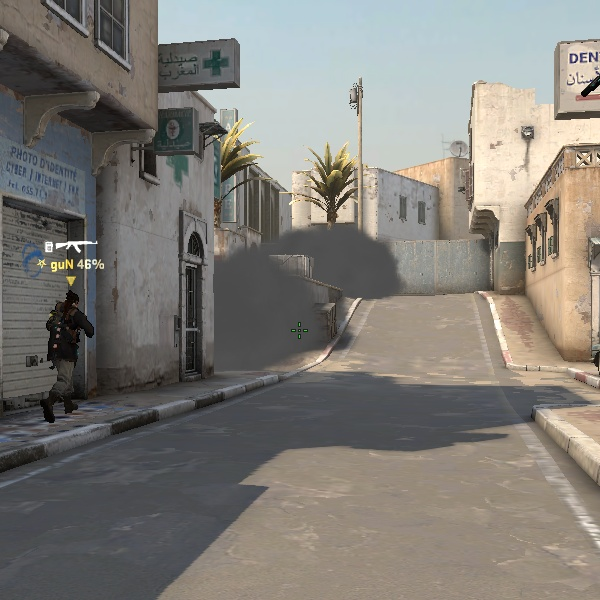t_body: (28, 288, 107, 427)
t_head: (55, 288, 86, 319)
